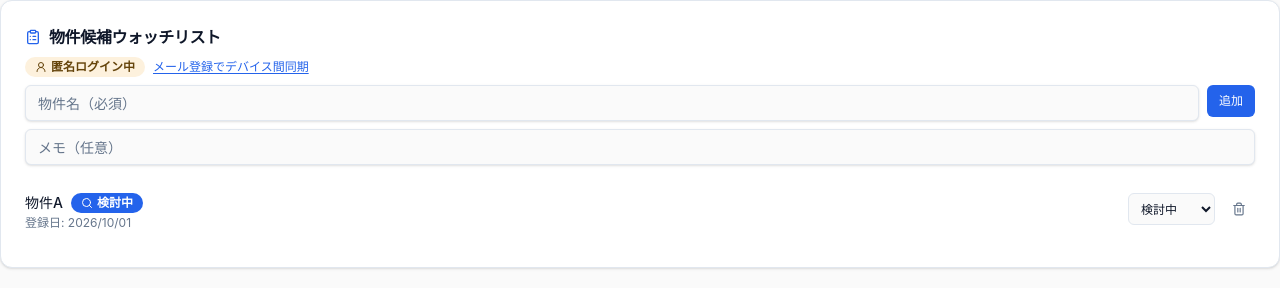
Test: WatchlistPanel（Firebase 未設定） › ステータス変更が localStorage に保存される
Select "見送り" in the dropdown named "物件A のステータスを変更". click: (1172, 209)
box: [1128,193,1215,225]
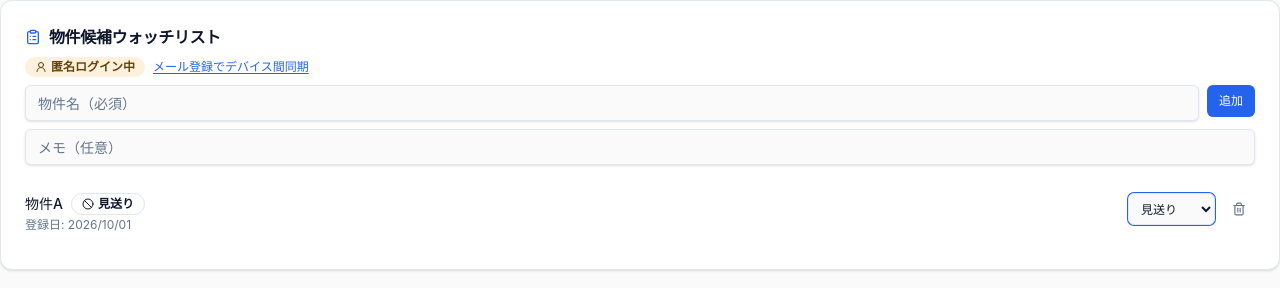
Check: the element showing "見送り" is shown, box [71,193,145,215]
